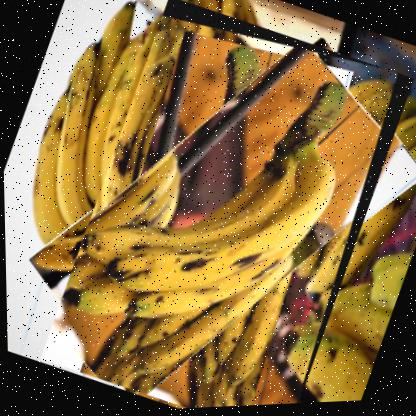banana: (31, 0, 415, 414)
